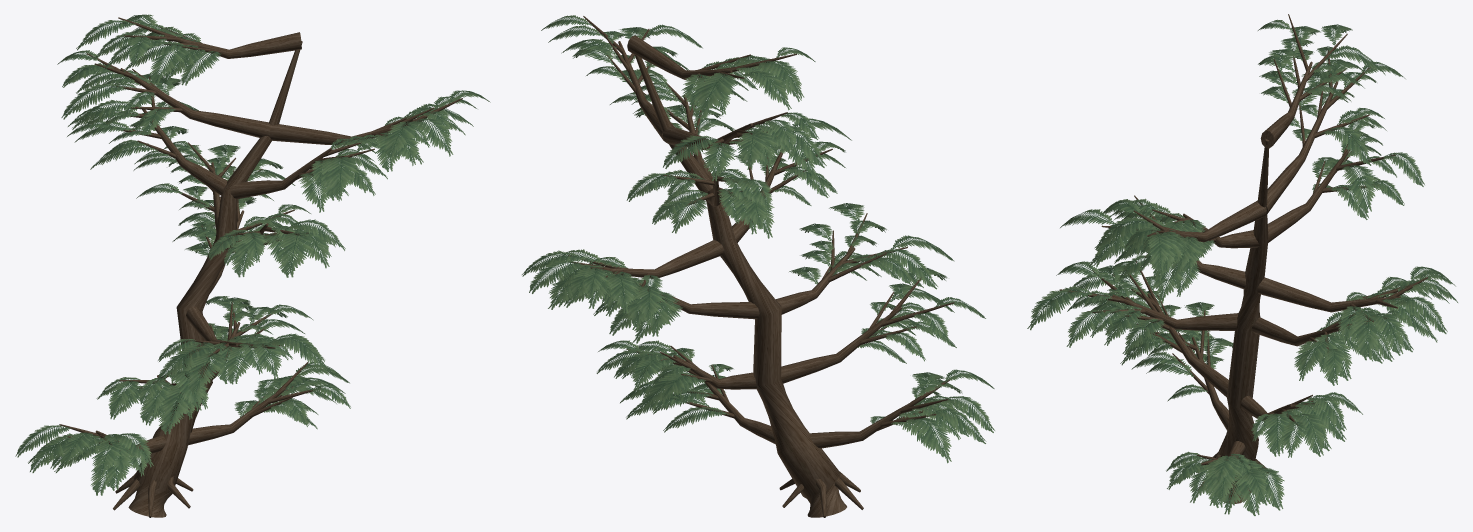
Rendered from cliff_pine_gnarled.glb.
3 renders of one model, left to right at view 1: azimuth 30°, elevation 25°; view 2: azimuth 150°, elevation 25°; view 3: azimuth 270°, elevation 25°, orthographic. The views are drawn at different scales.
Parts seen in each view (by area): view 1: cliff_pine_gnarled; view 2: cliff_pine_gnarled; view 3: cliff_pine_gnarled.
Boxes of the visible parts, <box> form: cliff_pine_gnarled: <box>15,14,490,517</box>; cliff_pine_gnarled: <box>522,15,994,517</box>; cliff_pine_gnarled: <box>1027,14,1457,515</box>.
Size of the model in its own units: 6.6 by 6.4 by 5.2.
2 materials, 2 textured.
